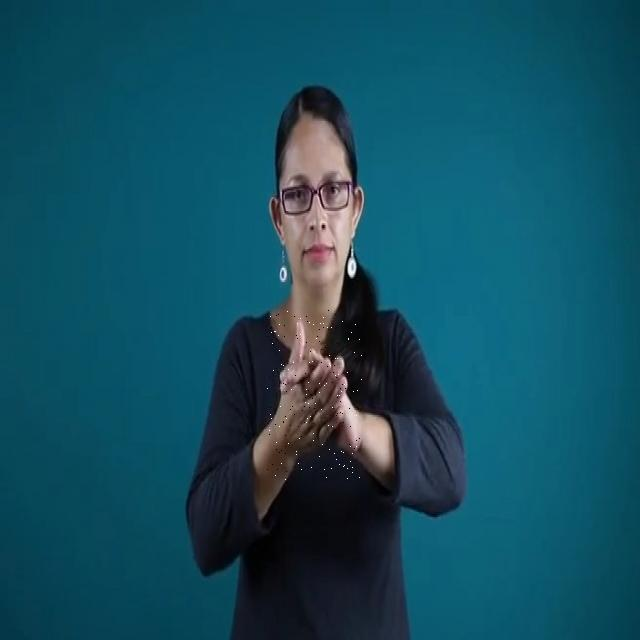burger: (266, 310, 362, 484)
